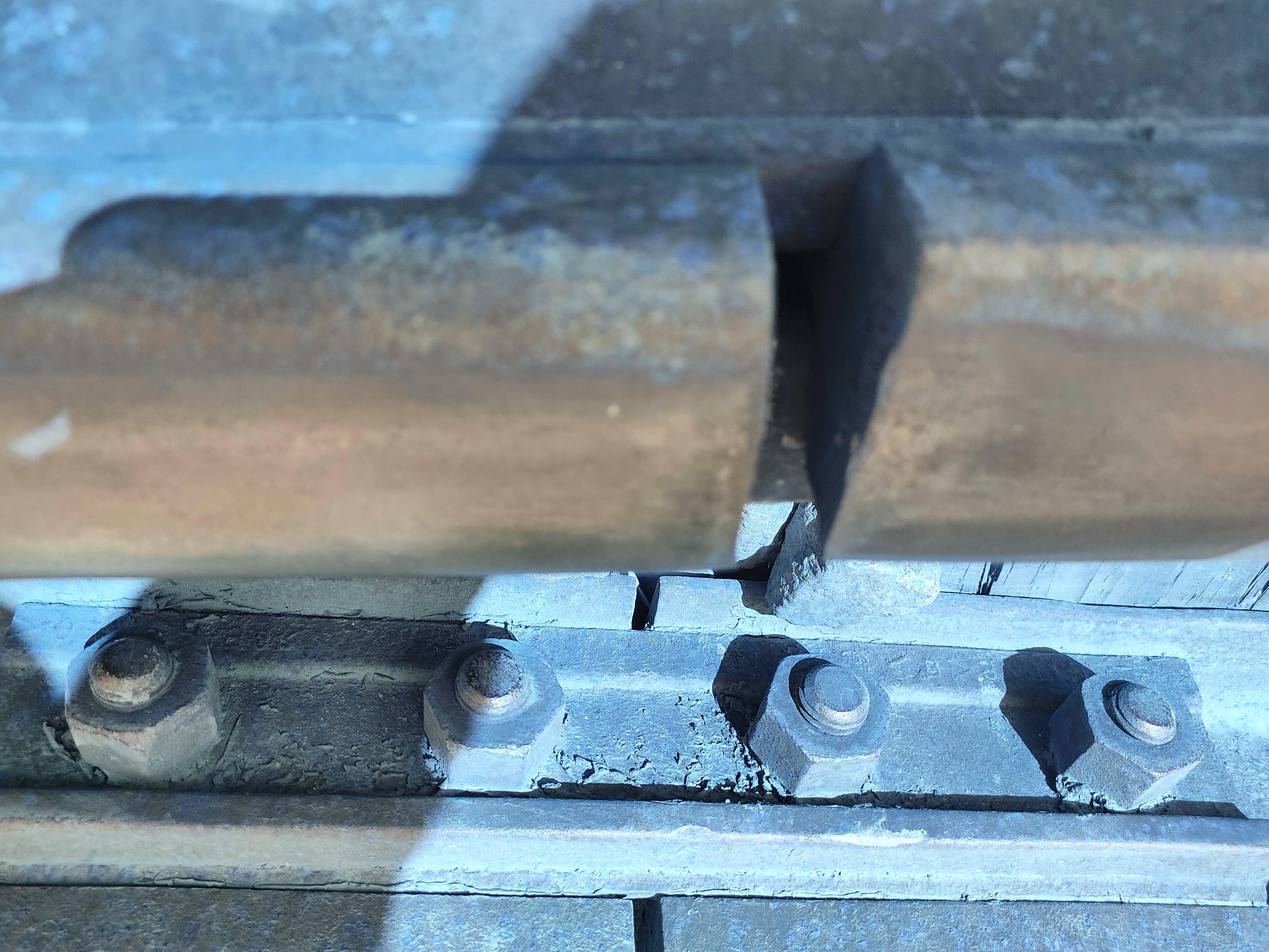duan lie: (694, 138, 941, 584)
